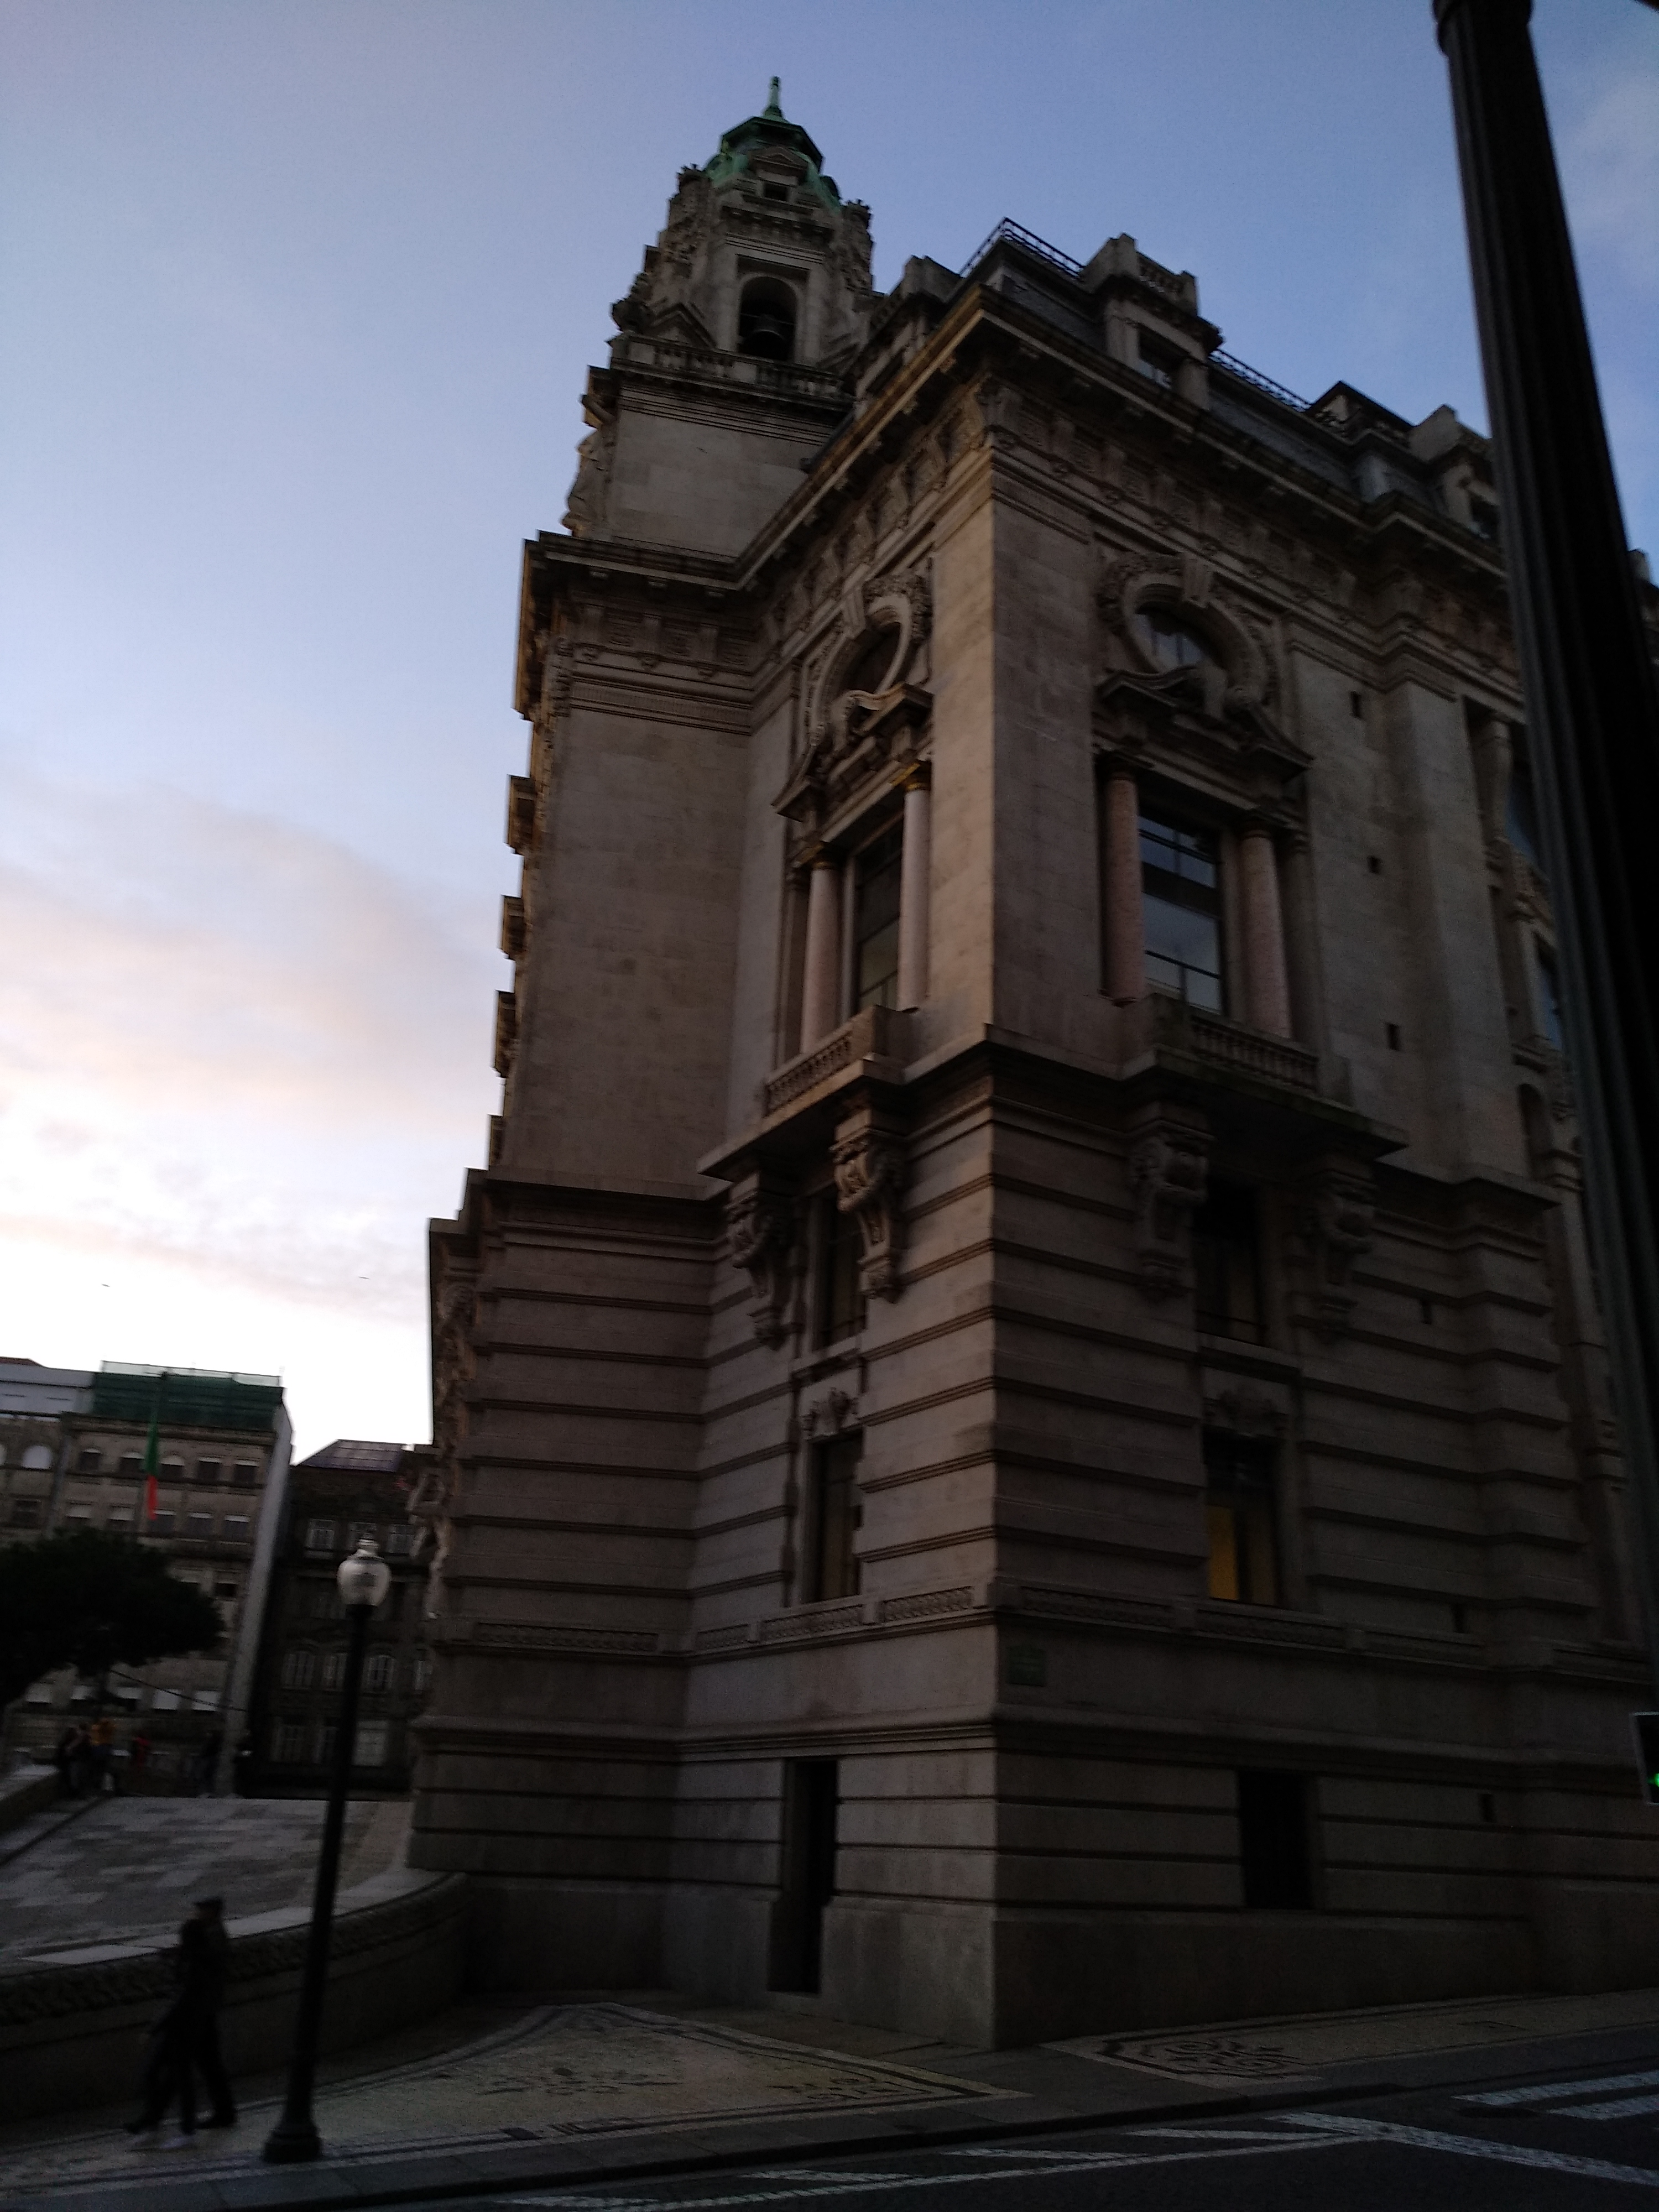camara: (396, 52, 1263, 1994)
